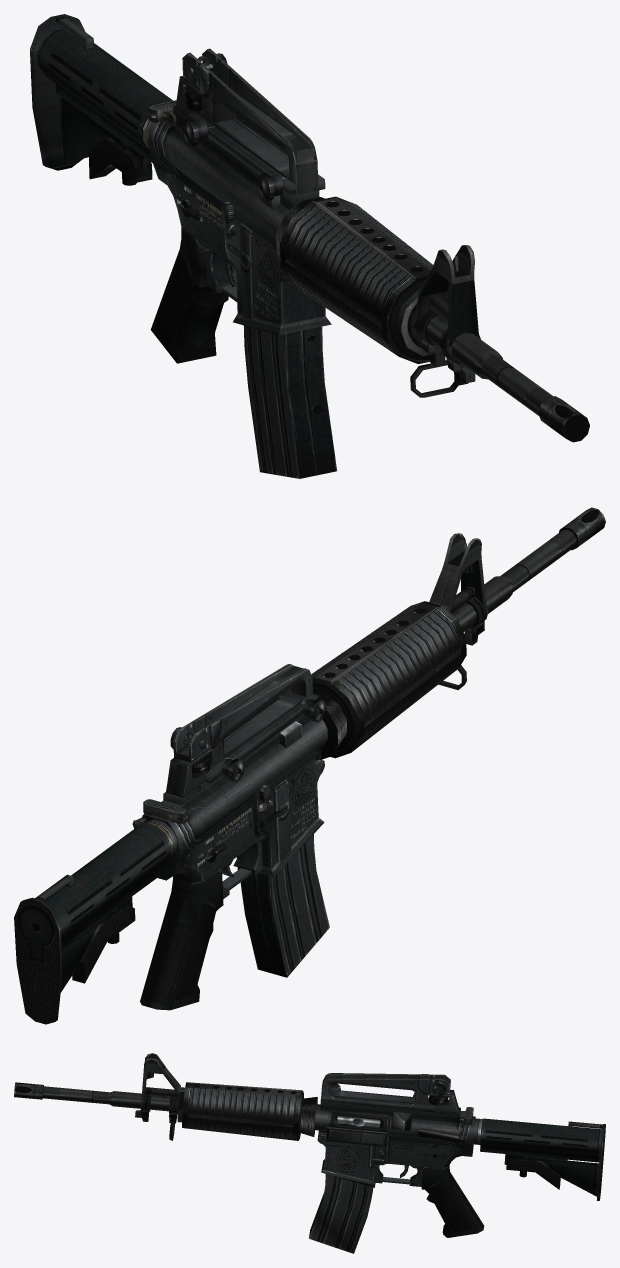
Rendered from Ground_M4A1.fbx.
The picture shows the model from 3 angles, top to bottom: view 1: azimuth 30°, elevation 25°; view 2: azimuth 150°, elevation 25°; view 3: azimuth 270°, elevation 25°; orthographic projection. The views are drawn at different scales.
Visible parts, largest first — view 1: M4A1; view 2: M4A1; view 3: M4A1.
Boxes of the visible parts, x1,y1,x2,y2 form: M4A1: [30, 14, 589, 478]; M4A1: [14, 507, 605, 1024]; M4A1: [14, 1053, 605, 1253].
Bounding box in the file's own units: 788 × 2402 × 6880.
